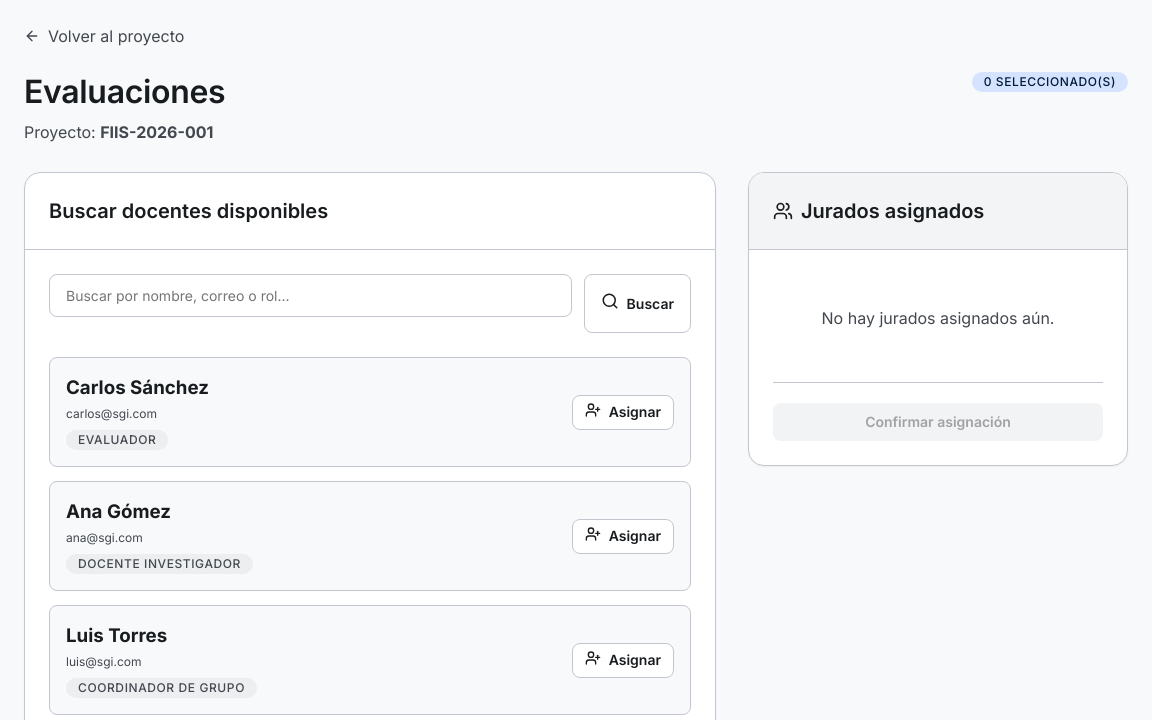
Test case: AssignReviewers › filters reviewers by search text
Expected: the heading "Carlos Sánchez" is shown, x1=66 y1=374 x2=209 y2=402
Step 1. Type "Ana" into the field with placeholder "Buscar por nombre, correo o rol..." → (310, 296), box x1=49 y1=274 x2=572 y2=317
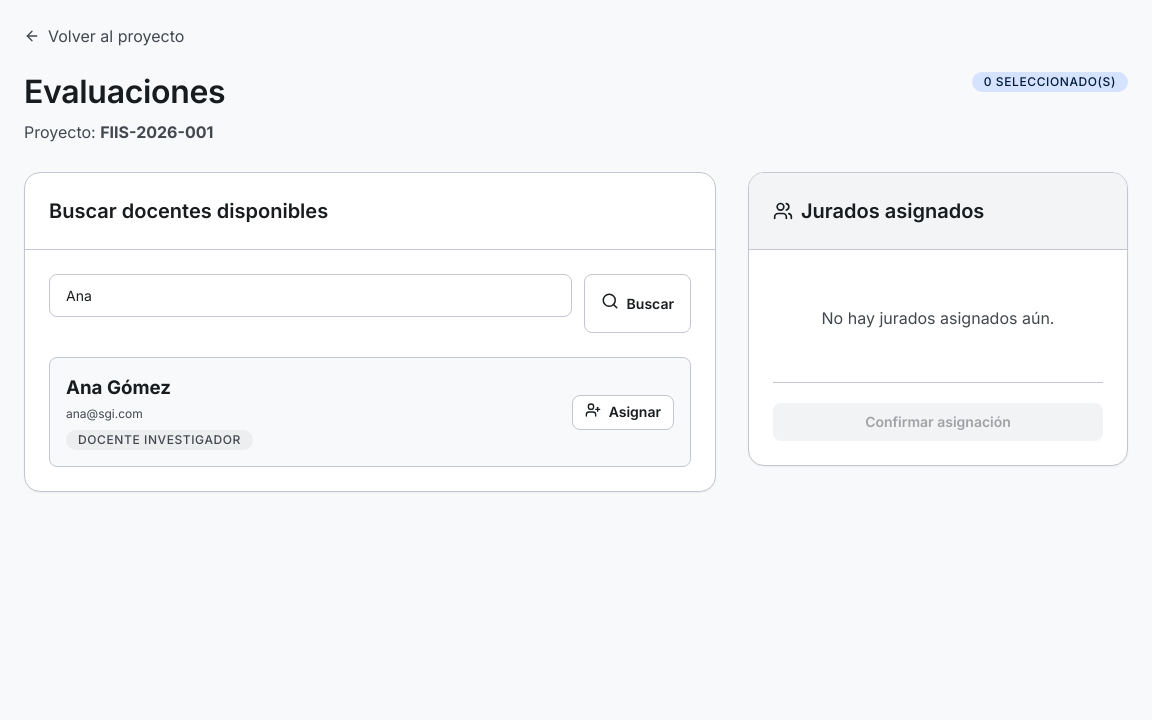
Expected: the heading "Ana Gómez" is shown, x1=66 y1=376 x2=171 y2=399
Expected: the heading "Carlos Sánchez" is gone
